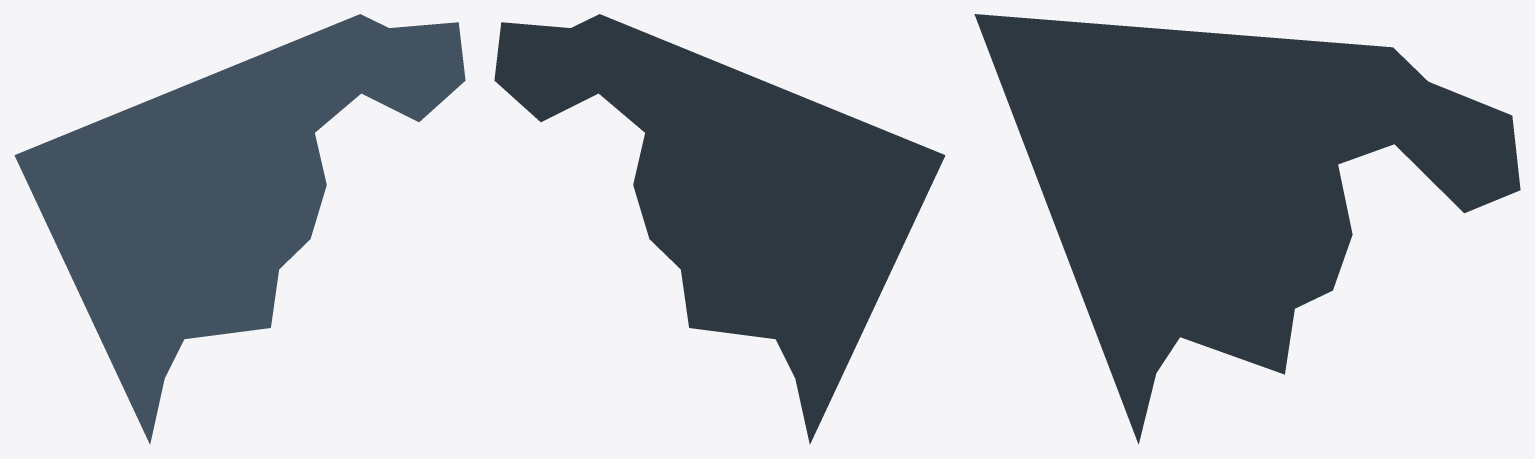
Rendered from DivingWallExteriorG.glb.
The picture shows the model from 3 angles, left to right: view 1: azimuth 30°, elevation 25°; view 2: azimuth 150°, elevation 25°; view 3: azimuth 330°, elevation 25°; orthographic projection. The views are drawn at different scales.
Parts seen in each view (by area): view 1: DivingWallExteriorG; view 2: DivingWallExteriorG; view 3: DivingWallExteriorG.
Part boxes in pixels (x1,y1,x2,y2): DivingWallExteriorG: [14, 14, 465, 444]; DivingWallExteriorG: [494, 14, 945, 444]; DivingWallExteriorG: [974, 14, 1520, 444].
Size of the model in its own units: 52.53 by 42.25 by 0.
